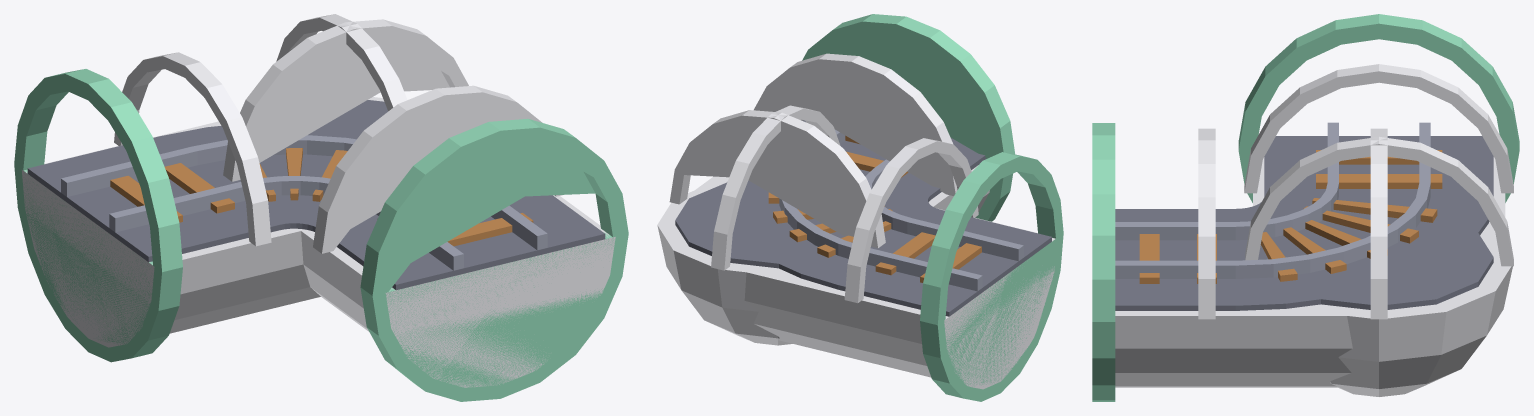
File: tunnel-1x1-bend.glb
3 renders of one model, left to right at view 1: azimuth 30°, elevation 25°; view 2: azimuth 150°, elevation 25°; view 3: azimuth 270°, elevation 25°, orthographic. The views are drawn at different scales.
Parts seen in each view (by area): view 1: tunnel-1x1-bend; view 2: tunnel-1x1-bend; view 3: tunnel-1x1-bend.
Part boxes in pixels (x1,y1,x2,y2): tunnel-1x1-bend: (14,14,628,401); tunnel-1x1-bend: (657,14,1063,401); tunnel-1x1-bend: (1092,14,1519,401).
Size of the model in its own units: 0.745 by 0.49 by 0.745.
Materials: 1 (1 with a texture image).
